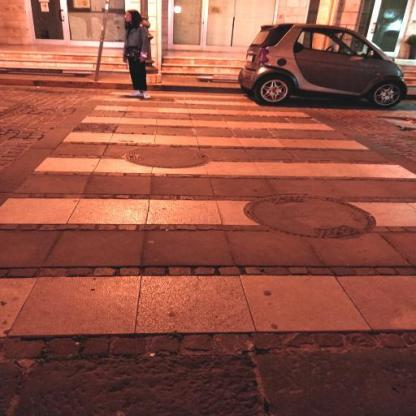crosswalk: (1, 153, 415, 237), (78, 102, 344, 136)
